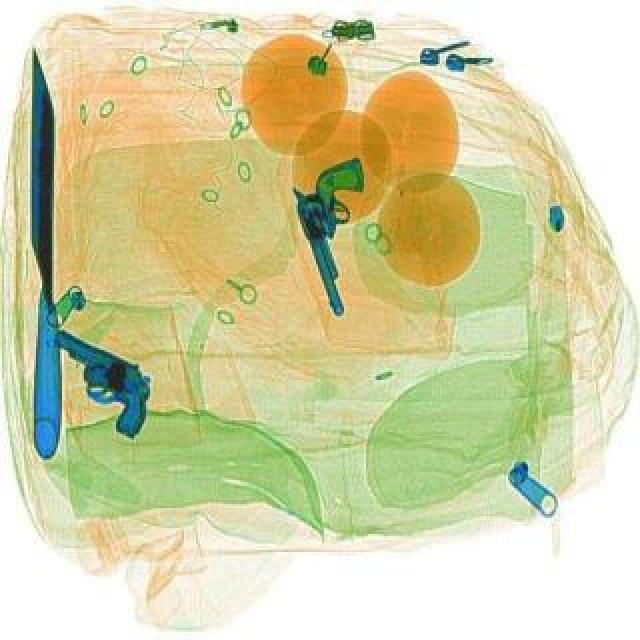gun: (282, 158, 406, 322), (22, 332, 168, 444)
knife: (30, 48, 62, 462)
